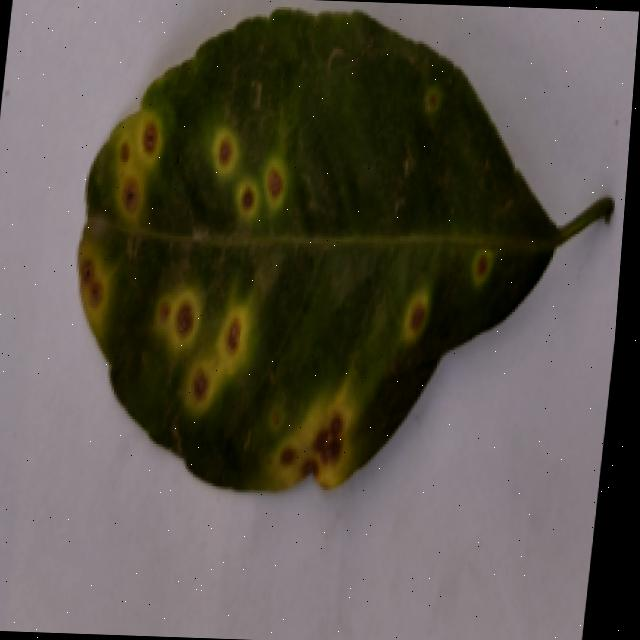canker: (79, 9, 609, 488), (135, 278, 265, 426), (246, 385, 363, 526), (191, 111, 300, 242), (97, 104, 172, 224), (64, 248, 116, 326), (454, 235, 507, 303), (393, 288, 439, 349)
